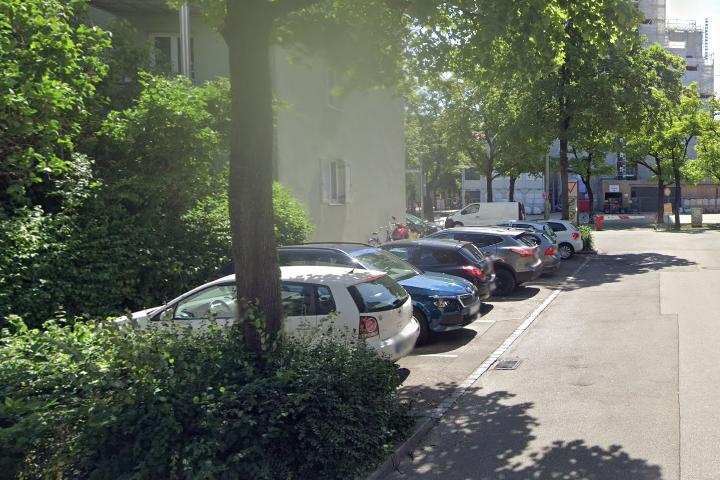traffic_sign: (565, 182, 576, 193)
vehicle: (69, 257, 425, 390), (437, 199, 528, 238)
